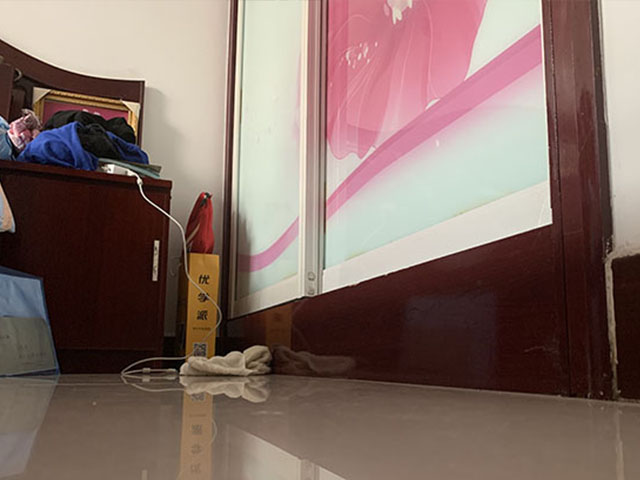cabinet: (221, 1, 623, 403), (1, 159, 176, 380)
socks: (178, 343, 274, 377)
wire: (106, 168, 224, 380)
